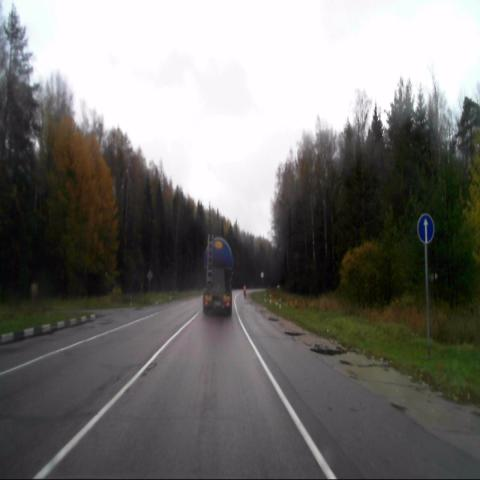4_1_1: (416, 211, 436, 247)
